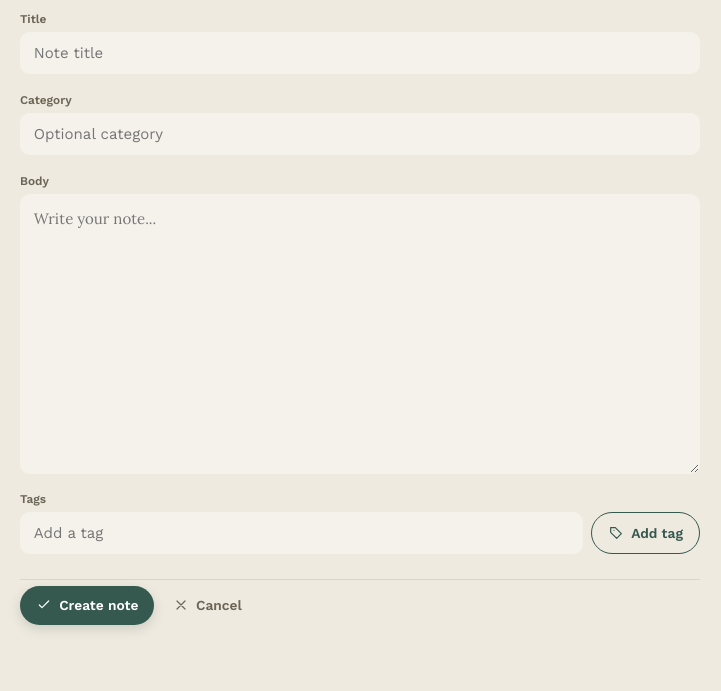
Scenario: NoteForm validation › shows an error and does not save when title is empty
// Add a tag but leave title empty
Type "home" into the field labelled "Tags" at (302, 533), box 20,512 -> 583,554
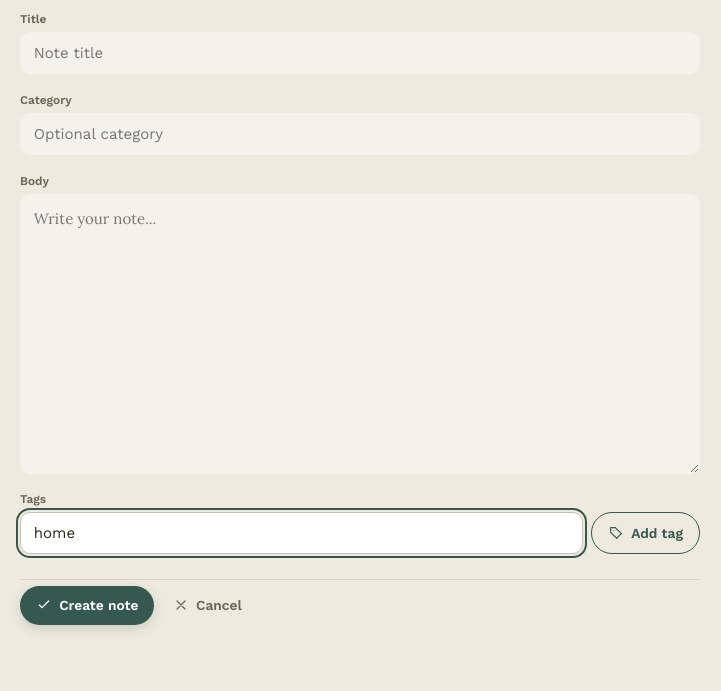
Click the button "Add tag" at (646, 533), box 591,512 -> 700,554
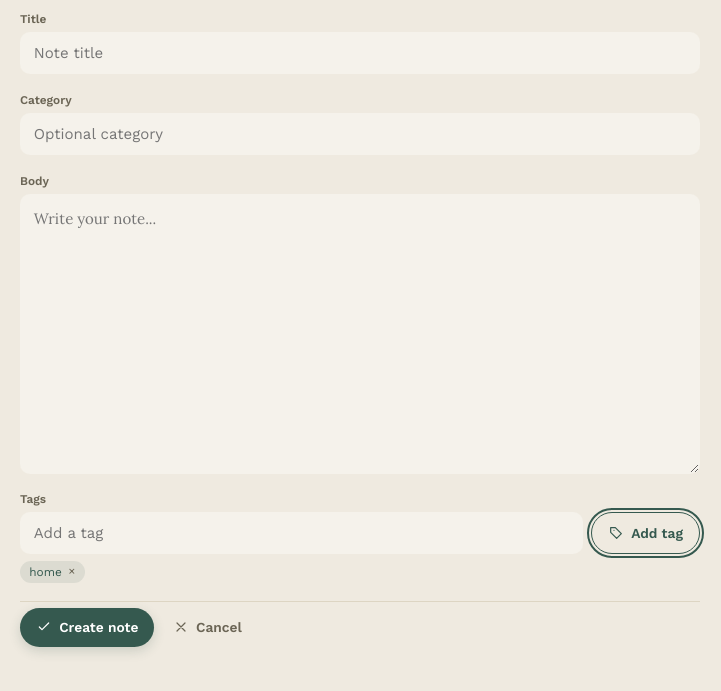
Click the button "Create note" at (87, 627), box 20,608 -> 154,647
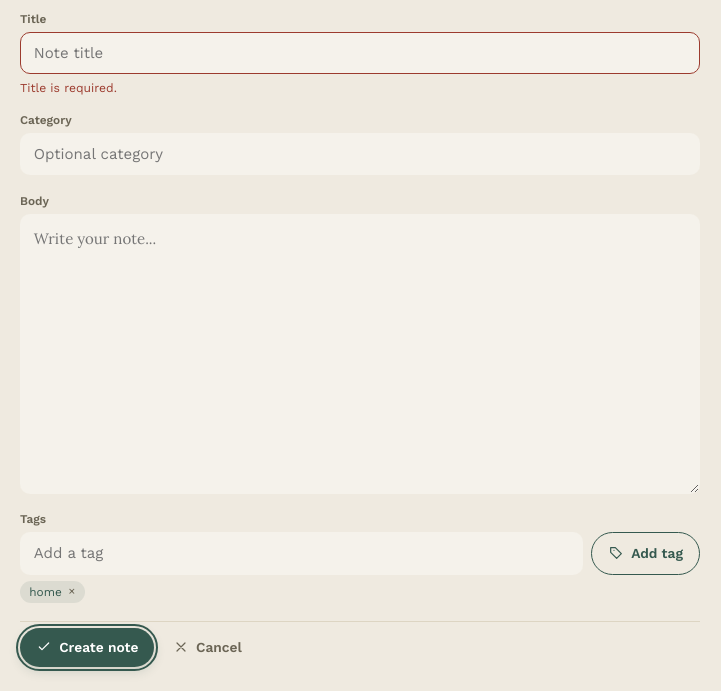
Now the text "Title is required." is shown, box 20,80 -> 117,94
